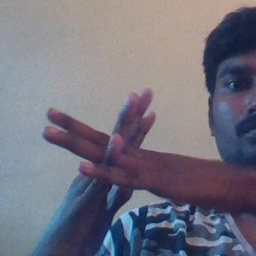W: (38, 80, 187, 221)
